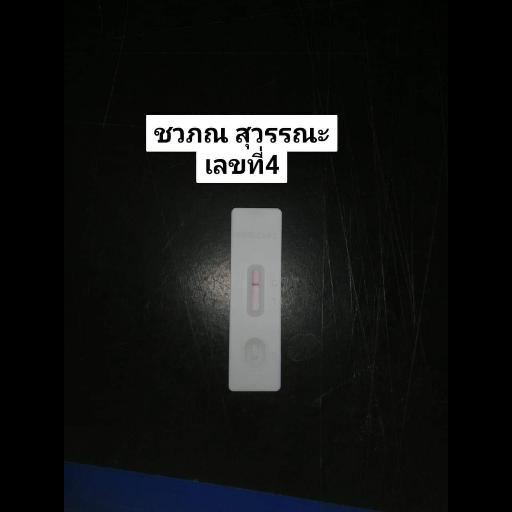Neg: (231, 209, 281, 393)
